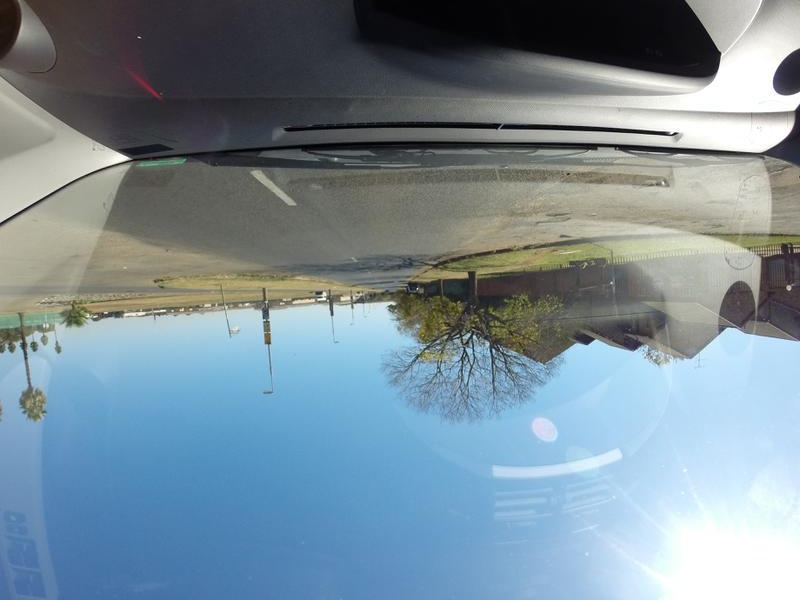pothole: (536, 217, 571, 228)
